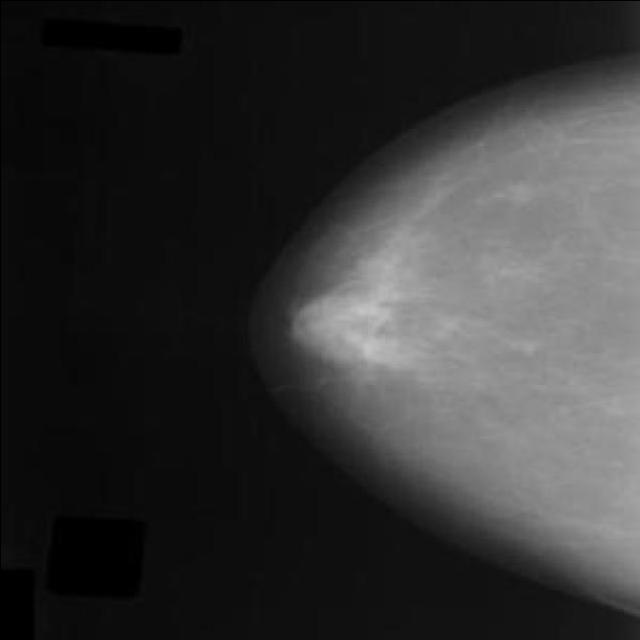tumor: (290, 248, 429, 386)
